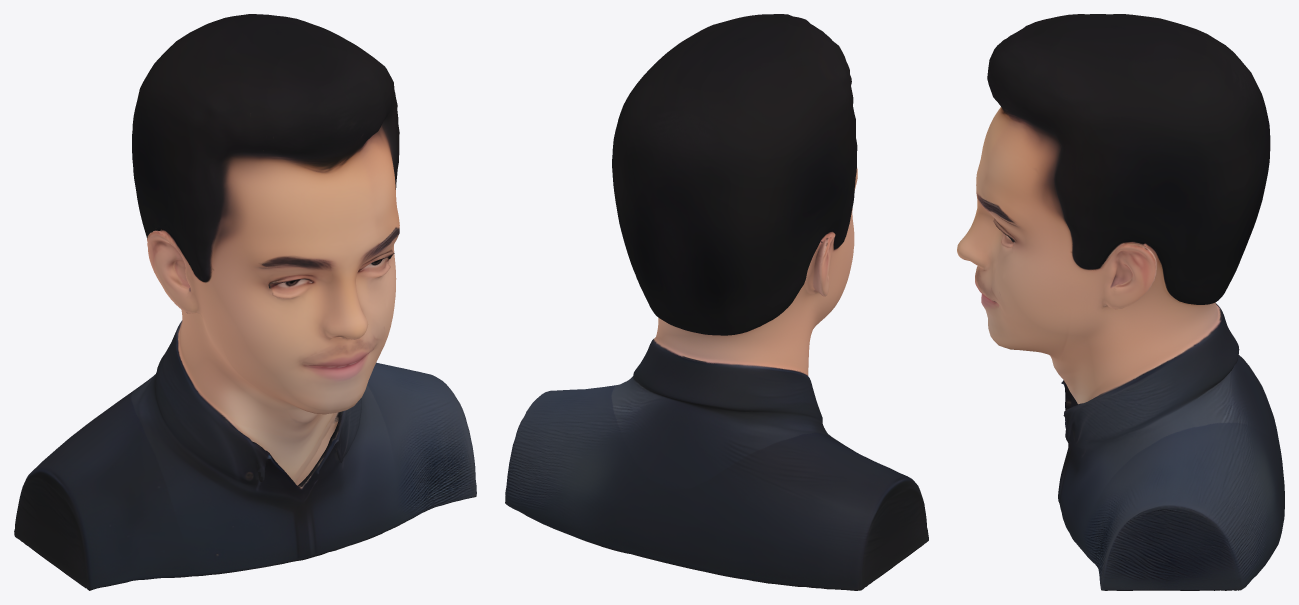
File: Amin.glb
3 views of the same model, side by side, from view 1: azimuth 30°, elevation 25°; view 2: azimuth 150°, elevation 25°; view 3: azimuth 270°, elevation 25° (orthographic). The views are drawn at different scales.
Visible parts, largest first — view 1: model; view 2: model; view 3: model.
Boxes of the visible parts, x1,y1,x2,y2 form: model: (14, 14, 476, 590); model: (505, 14, 928, 590); model: (957, 14, 1284, 590).
Size of the model in its own units: 1.54 by 1.91 by 1.19.
1 material, 1 textured.
